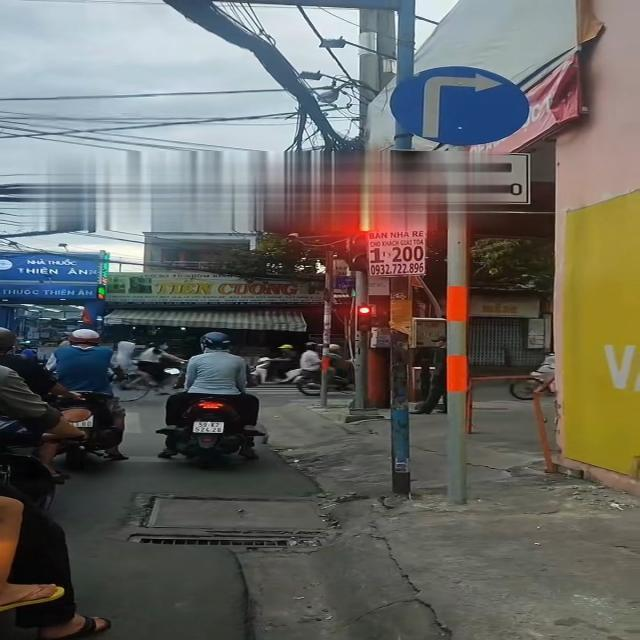301d-cac-xe-chi-duoc-re-phai-2: (394, 62, 530, 149)
